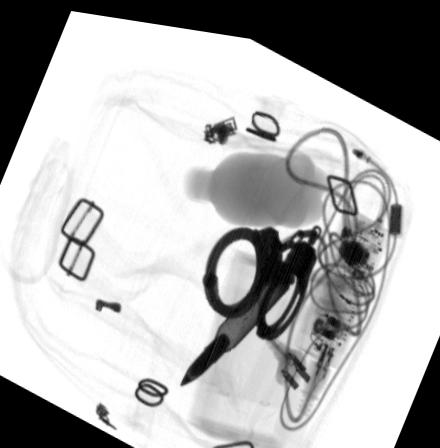Bullet: (179, 250, 294, 379)
HandCuffs: (198, 211, 321, 333)
